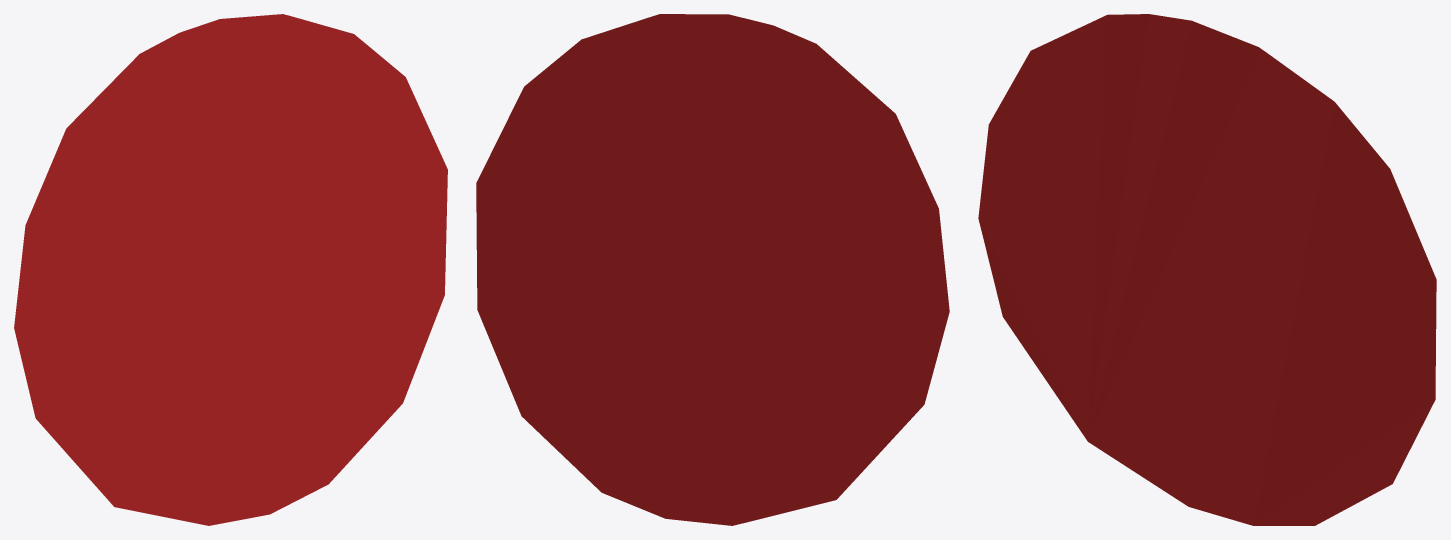
Rendered from converted_link3_1_d12626ff.obj.
The picture shows the model from 3 angles, left to right: view 1: azimuth 30°, elevation 25°; view 2: azimuth 150°, elevation 25°; view 3: azimuth 330°, elevation 25°; orthographic projection. The views are drawn at different scales.
Bounding box in the file's own units: 0.00146 × 0.00158 × 0.00012.
